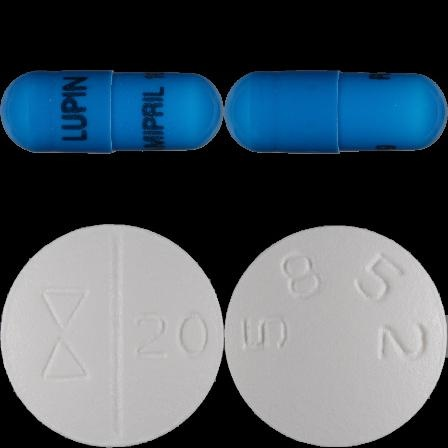63187-277: (0, 0, 224, 224)
